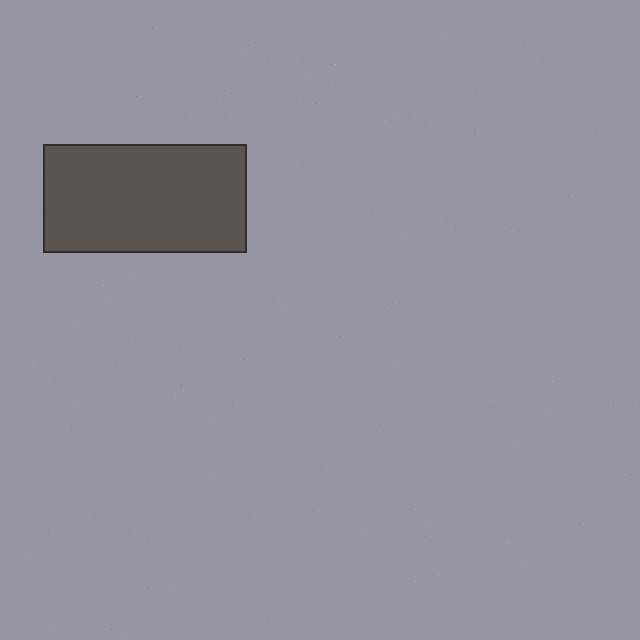concrete_damage: (43, 144, 246, 252)
